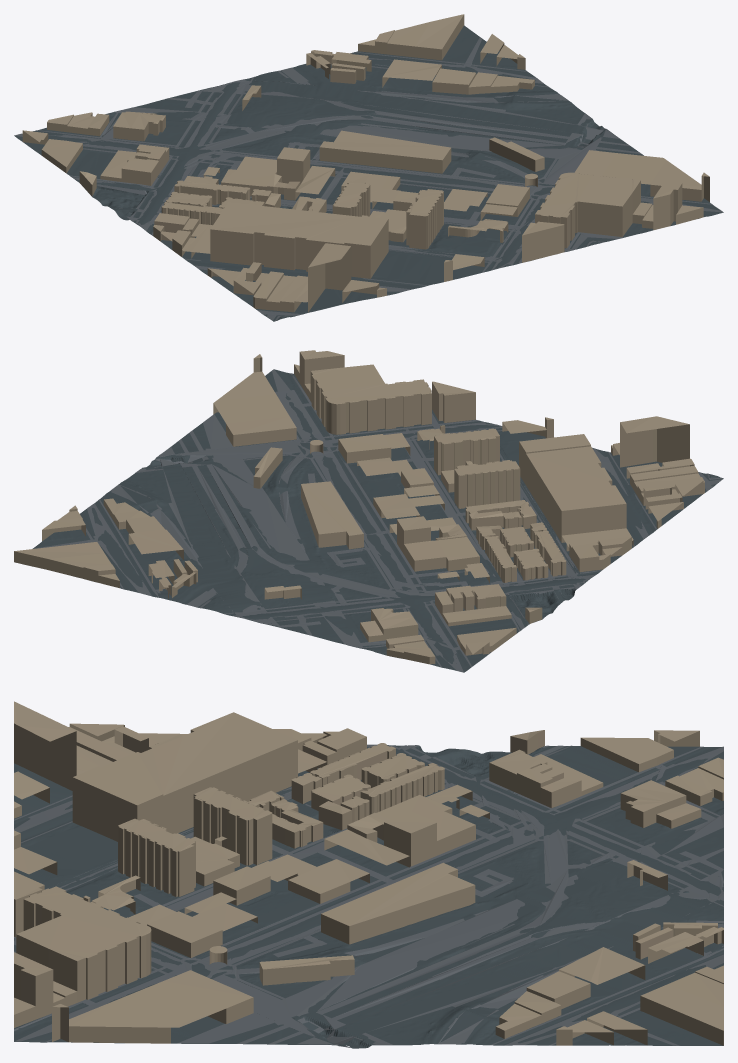
Rendered from epsg26910-1439-10889.lod0.glb.
The picture shows the model from 3 angles, top to bottom: view 1: azimuth 30°, elevation 25°; view 2: azimuth 150°, elevation 25°; view 3: azimuth 270°, elevation 25°; orthographic projection. The views are drawn at different scales.
Parts seen in each view (by area): view 1: epsg26910-1439-10889-lod0; view 2: epsg26910-1439-10889-lod0; view 3: epsg26910-1439-10889-lod0.
Part boxes in pixels (x1,y1,x2,y2): epsg26910-1439-10889-lod0: [14, 14, 723, 321]; epsg26910-1439-10889-lod0: [14, 350, 723, 672]; epsg26910-1439-10889-lod0: [14, 701, 723, 1048].
Size of the model in its own units: 384 by 46.1 by 384.
